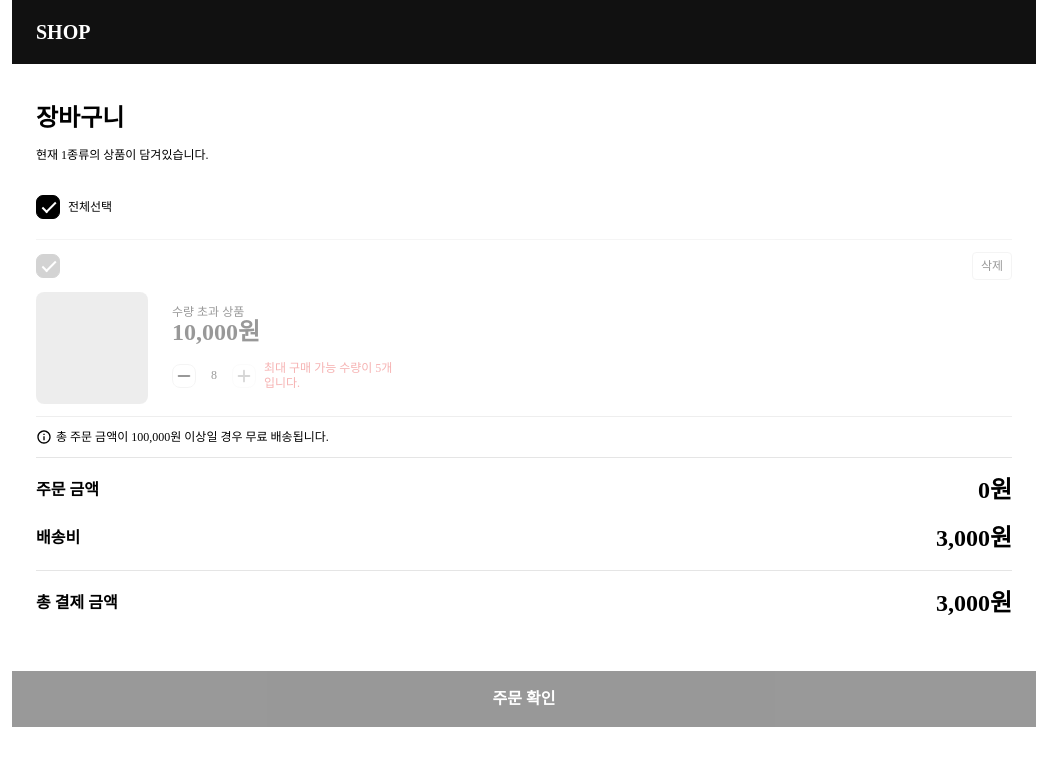
최대 구매 가능 수량 초과(quantityExceeded) 상품 › 감소 버튼을 눌러 재고 이내로 수량이 줄어들면 구매 가능 상태로 전환된다
Expected: the text "수량 초과 상품" is shown, [172,304,244,318]
Step 1. Click the 2nd button → [184, 376], box [172,364,196,388]
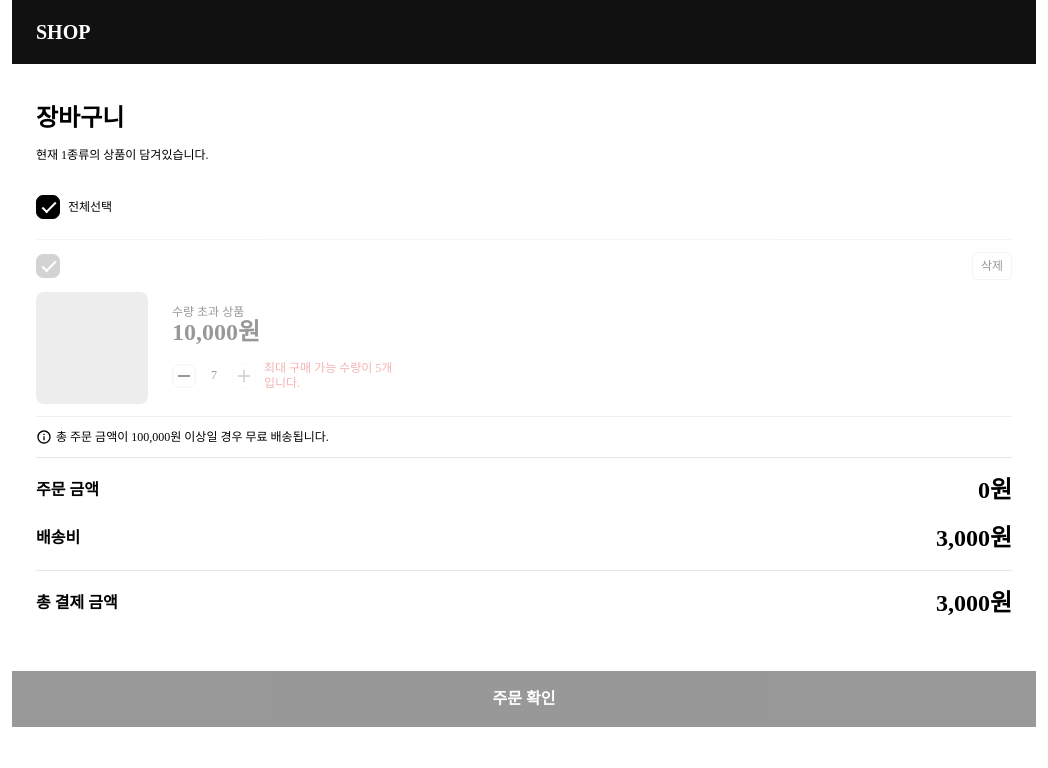
Step 2. Click the 2nd button → [184, 376], box [172,364,196,388]
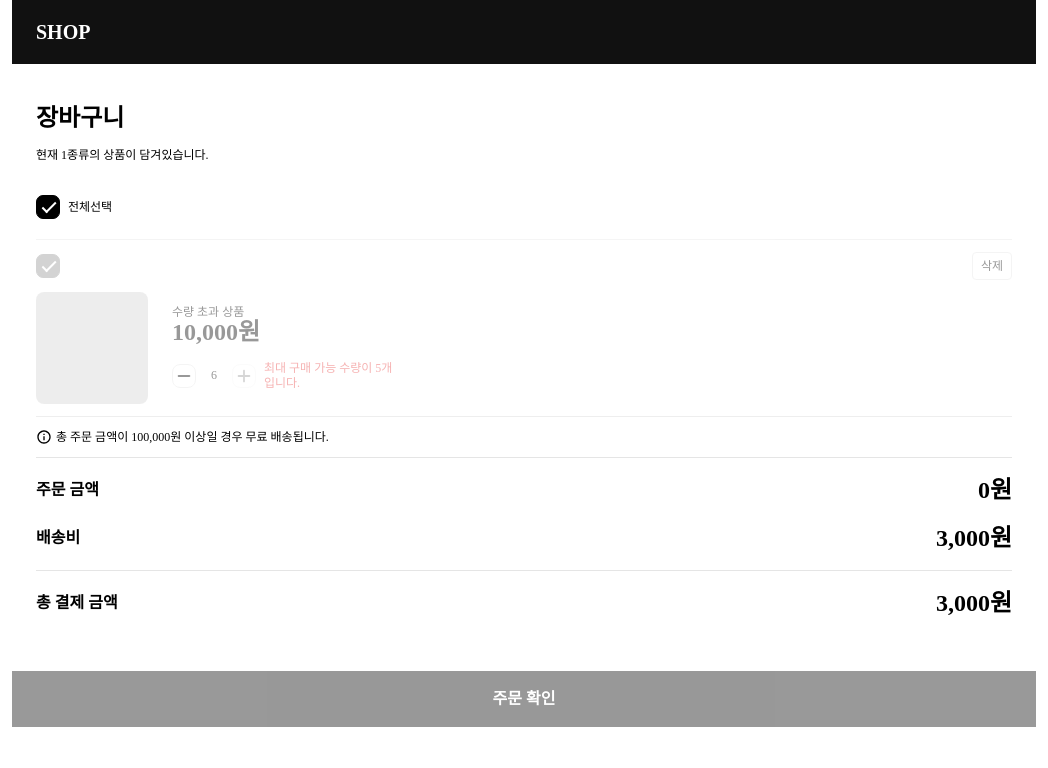
Step 3. Click the 2nd button → [184, 376], box [172,364,196,388]
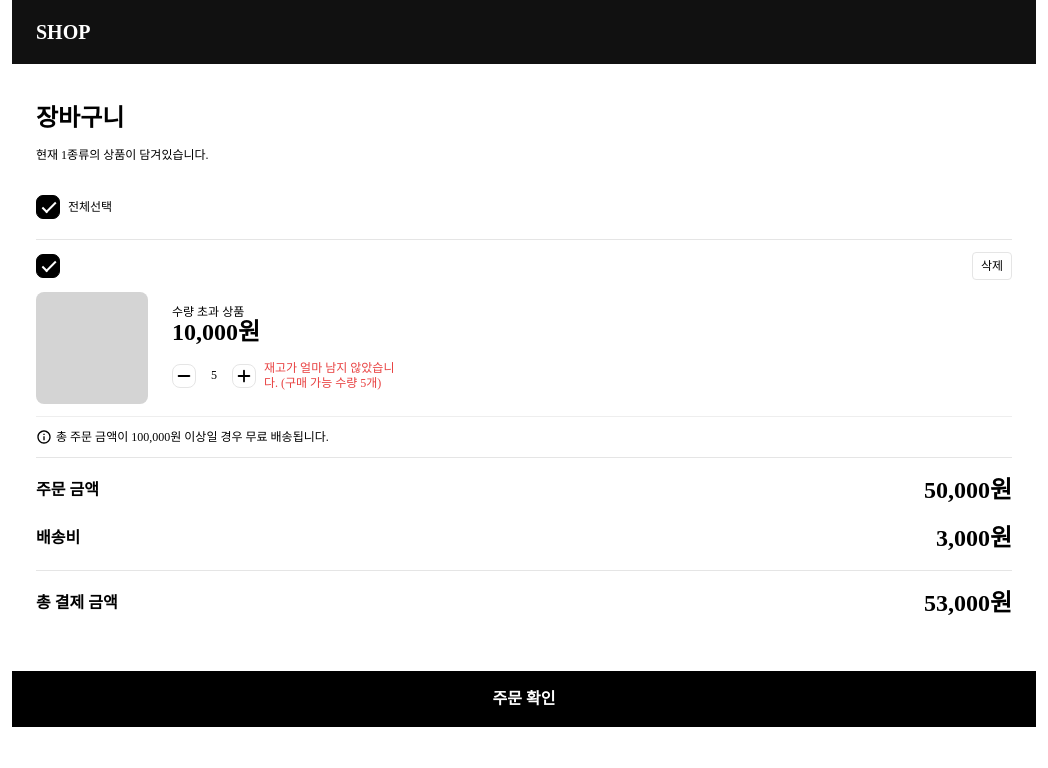
Result: the text "최대 구매 가능 수량이 5개 입니다." is gone
Result: the 2nd checkbox is enabled at [36,254,60,278]
Result: the 3rd button is enabled at [232,364,256,388]
